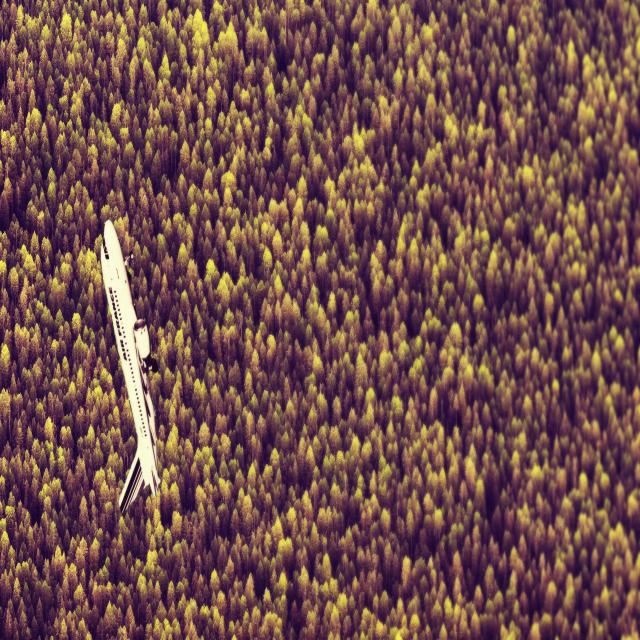airplane: (99, 218, 161, 517)
